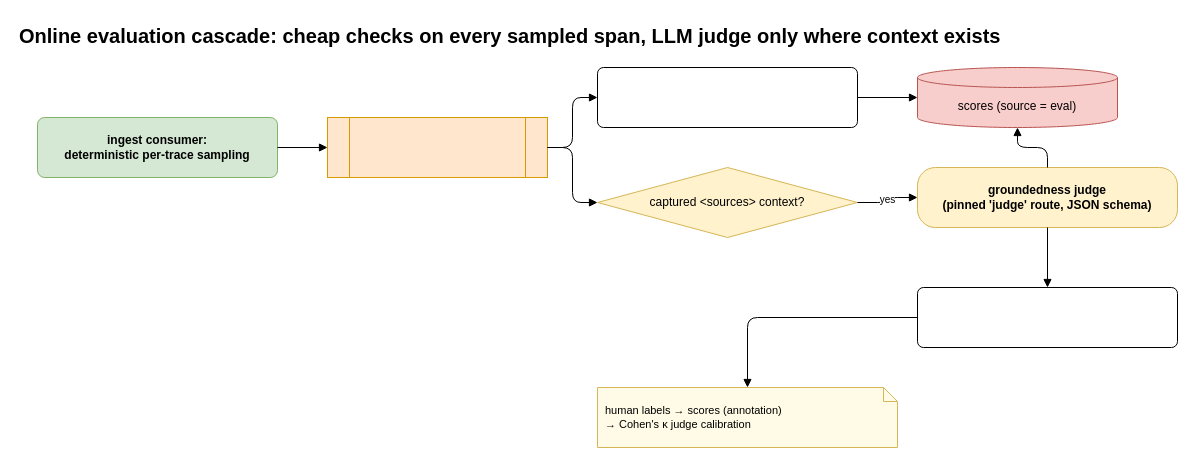
The diagram is 1195 pixels wide and 465 high, and some of its shapes have lost their labels. Here are the shapes that lost their labels. From the top down, the centre of each, then its label:
the point at 727,97: PII (regex + Luhn) · refusal · JSON validity · truncation
the point at 437,147: Redis list lumen:evals (bounded, best-effort)
the point at 1047,317: groundedness < 0.5 → annotation queue 'low-groundedness'
